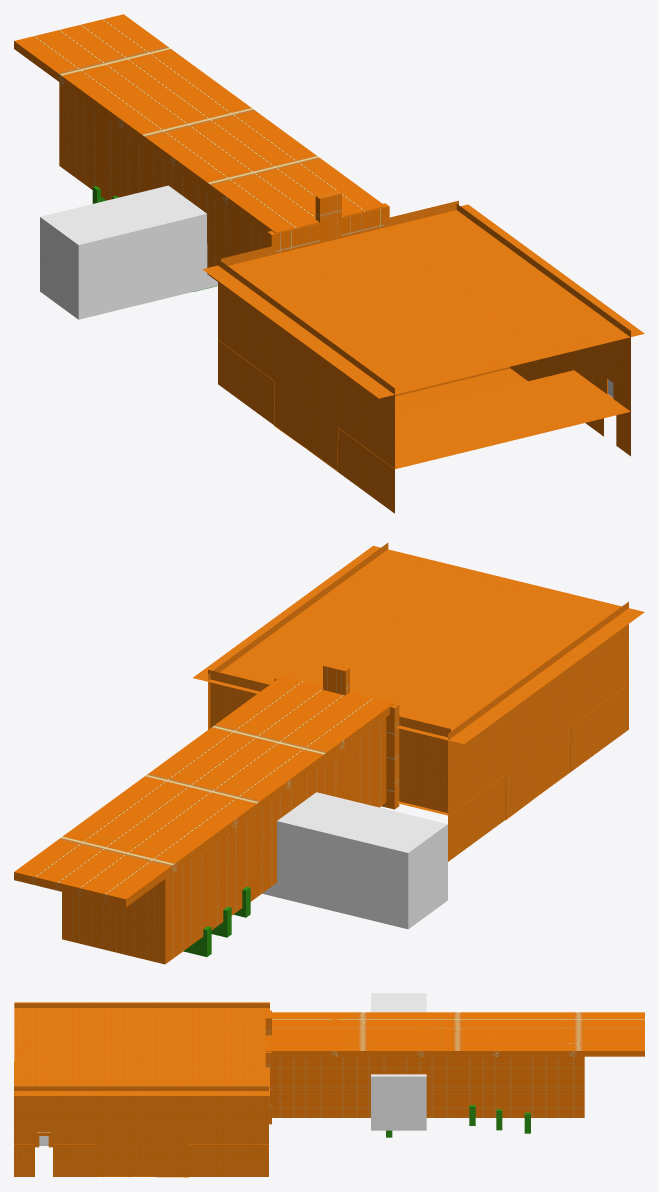
The model's file is Level Geometry.fbx.
3 renders of one model, top to bottom at view 1: azimuth 30°, elevation 25°; view 2: azimuth 150°, elevation 25°; view 3: azimuth 270°, elevation 25°, orthographic. The views are drawn at different scales.
Parts seen in each view (by area): view 1: Ceiling, Cube__3_, Wall_Right, Gravity_Zone, Plane_2, Plane, Wall_Left, Wall_Left__1_, Cube__2_, Cube__1_, Cube, Plane__1_; view 2: Ceiling, Cube__3_, Wall_Right, Plane, Gravity_Zone, Plane_1, Plane__1_, Cube__1_, Wall_Left, Cube__2_; view 3: Ceiling, Wall_Left, Plane, Cube__3_, Gravity_Zone, Wall_Left__1_, Wall_Right, Cube.
Part boxes in pixels (x1,y1,x2,y2): Ceiling: (202, 204, 644, 398); Cube__3_: (14, 14, 385, 233); Wall_Right: (218, 259, 394, 513); Gravity_Zone: (40, 185, 217, 319); Plane_2: (218, 340, 631, 470); Plane: (59, 82, 267, 281); Wall_Left: (456, 204, 603, 436); Wall_Left__1_: (603, 311, 630, 456); Cube__2_: (315, 190, 341, 243); Cube__1_: (267, 223, 319, 253); Cube: (341, 203, 389, 237); Plane__1_: (384, 200, 458, 227); Ceiling: (193, 545, 644, 744); Cube__3_: (14, 676, 393, 907); Wall_Right: (448, 601, 628, 861); Plane: (62, 717, 386, 964); Gravity_Zone: (262, 792, 447, 929); Plane_1: (399, 716, 450, 813); Plane__1_: (208, 670, 269, 727); Cube__1_: (382, 704, 399, 809); Wall_Left: (208, 563, 360, 729); Cube__2_: (323, 662, 349, 695); Ceiling: (14, 1002, 269, 1095); Wall_Left: (53, 1086, 268, 1176); Plane: (272, 1056, 584, 1117); Cube__3_: (266, 1012, 644, 1056); Gravity_Zone: (371, 993, 426, 1130); Wall_Left__1_: (14, 1086, 52, 1176); Wall_Right: (14, 1003, 269, 1007); Cube: (265, 1036, 271, 1124).
Size of the model in its own units: 4225 by 2070 by 9997.
6 materials, 2 textured.
